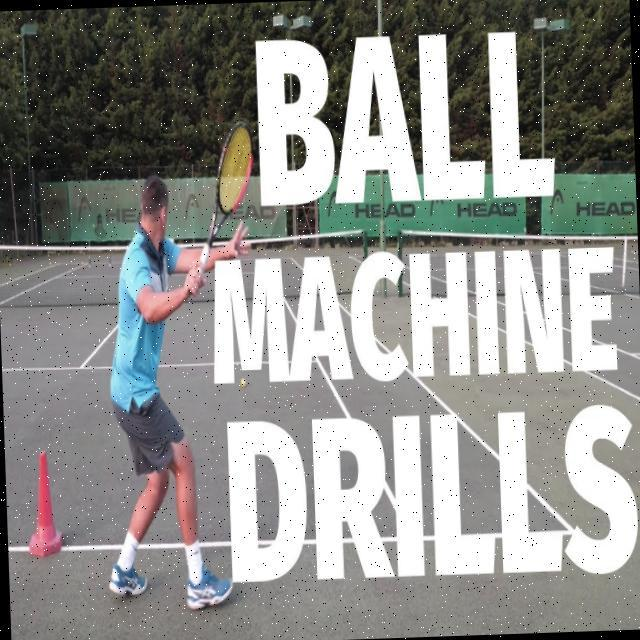net: (0, 224, 372, 311)
player: (93, 112, 270, 616)
